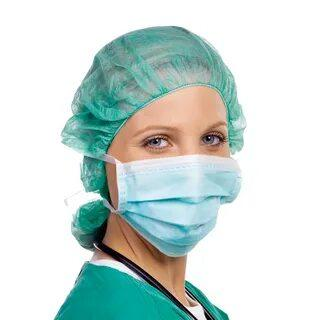hairnet: (60, 15, 266, 176)
mask: (113, 137, 269, 273)
